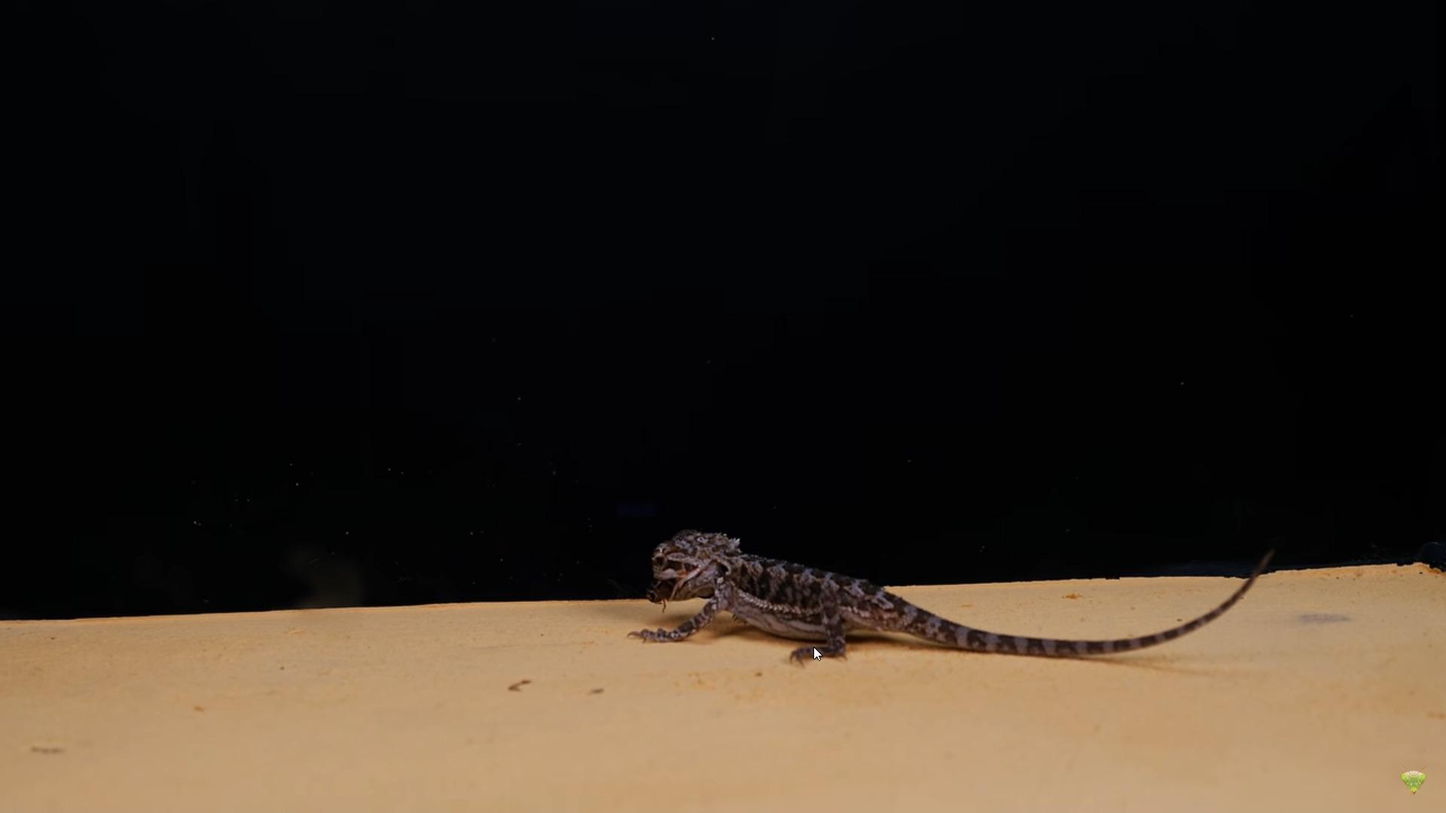cockroach: (637, 577, 676, 615)
lizard: (655, 520, 1195, 665)
